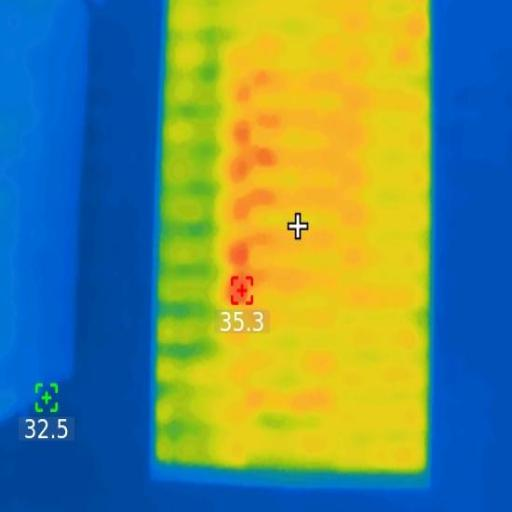hotspot: (224, 125, 274, 175), (228, 242, 256, 310), (233, 190, 271, 218)
